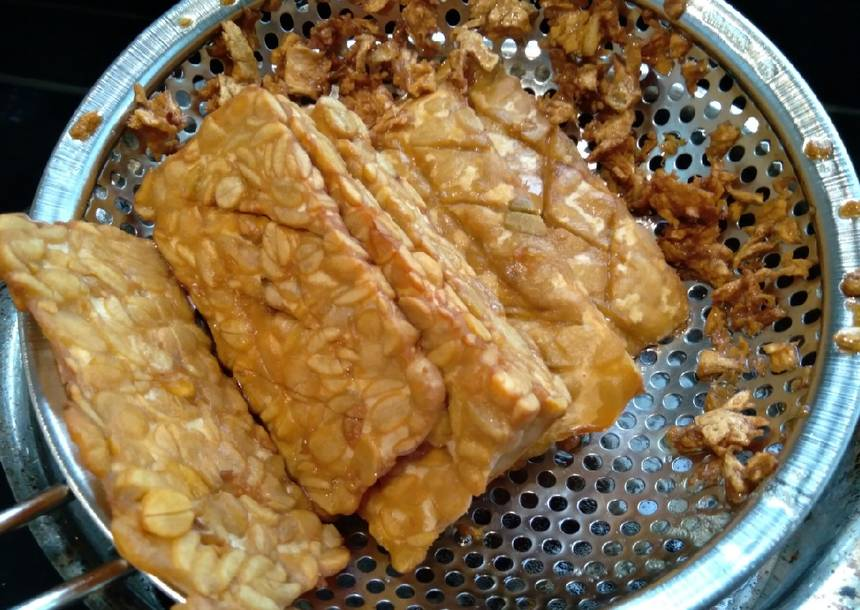Tempe: (94, 123, 454, 464), (13, 239, 277, 602), (451, 91, 634, 426)
